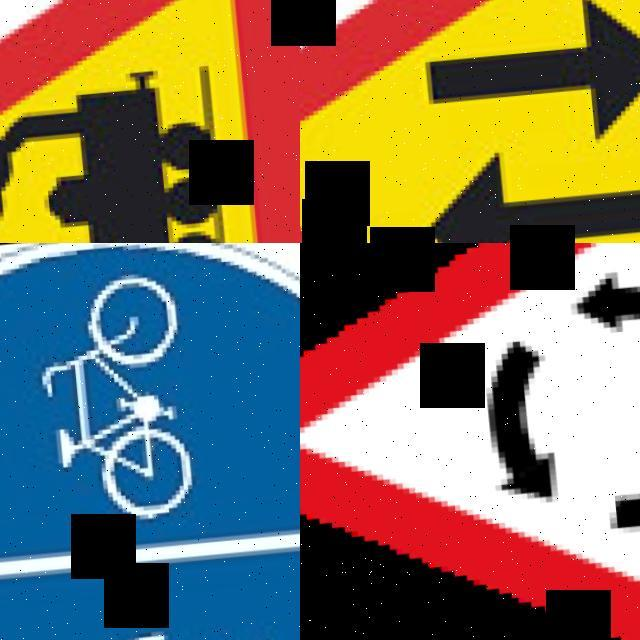144: (0, 0, 300, 243)
150: (300, 0, 640, 243)
99: (0, 243, 300, 640)
Roundabout: (300, 243, 640, 640)
two way traffic: (300, 0, 640, 243)
